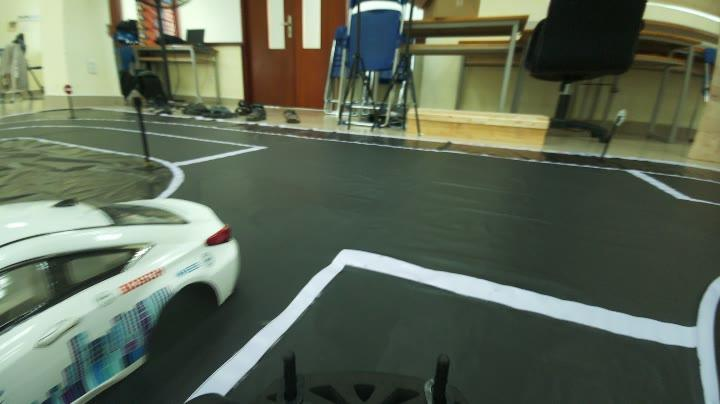car: (2, 189, 242, 404)
